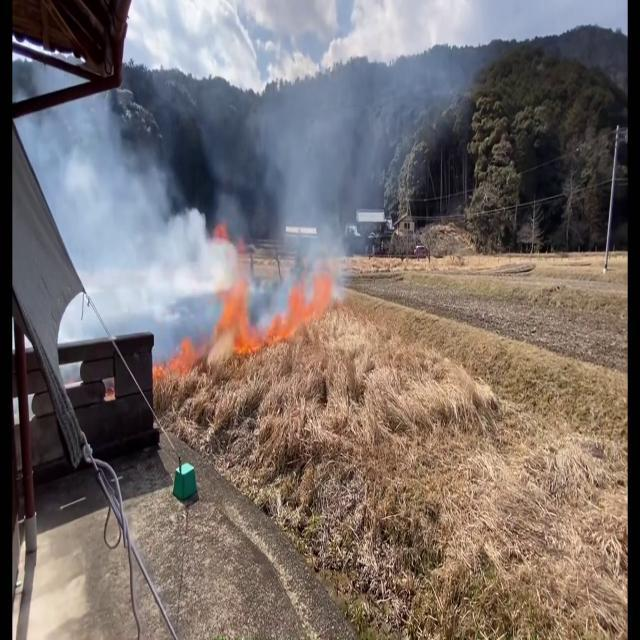Fire: (205, 240, 268, 364), (282, 250, 354, 346), (156, 333, 197, 388)
Smoke: (235, 11, 425, 322), (34, 70, 224, 350)
